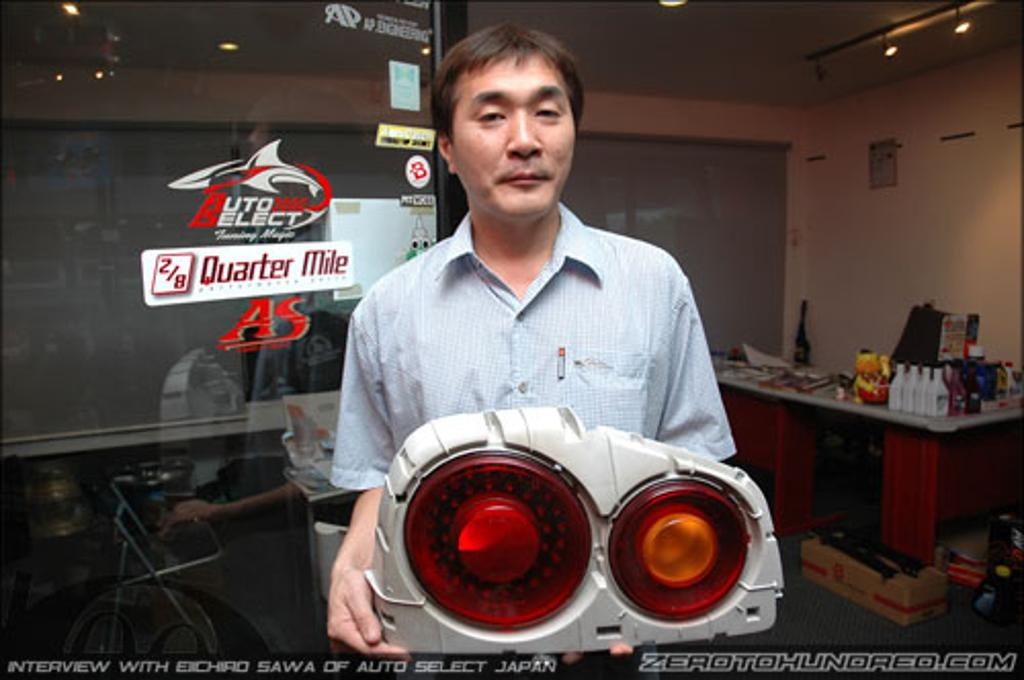face: (458, 54, 576, 220)
